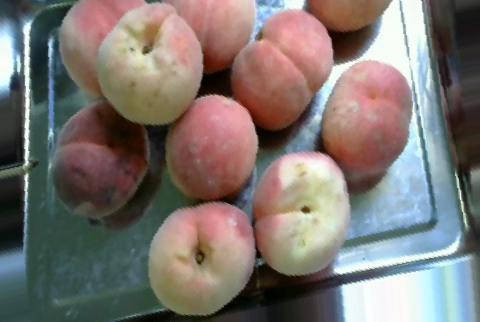Peach: (146, 202, 258, 318), (96, 3, 203, 123), (232, 8, 334, 130), (252, 151, 351, 276), (50, 100, 151, 218), (319, 59, 414, 177), (165, 91, 256, 200), (58, 2, 146, 94), (167, 0, 255, 72)
